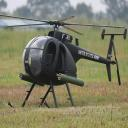helicopter: (3, 13, 128, 113)
